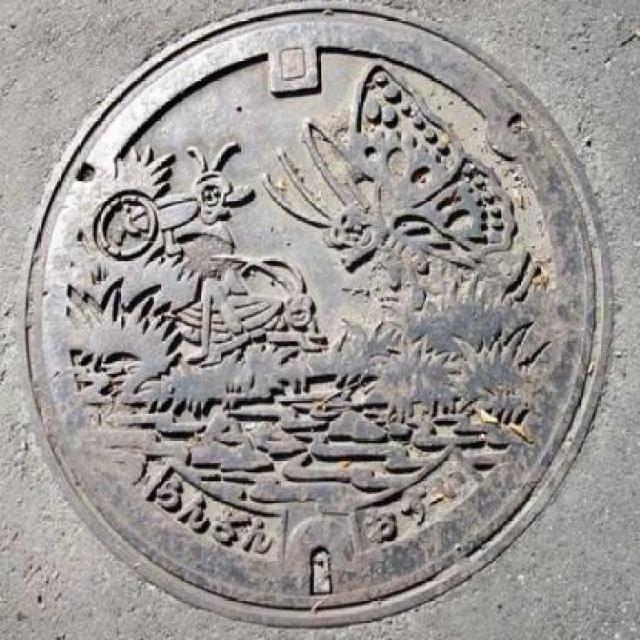Manhole: (23, 4, 623, 640)
